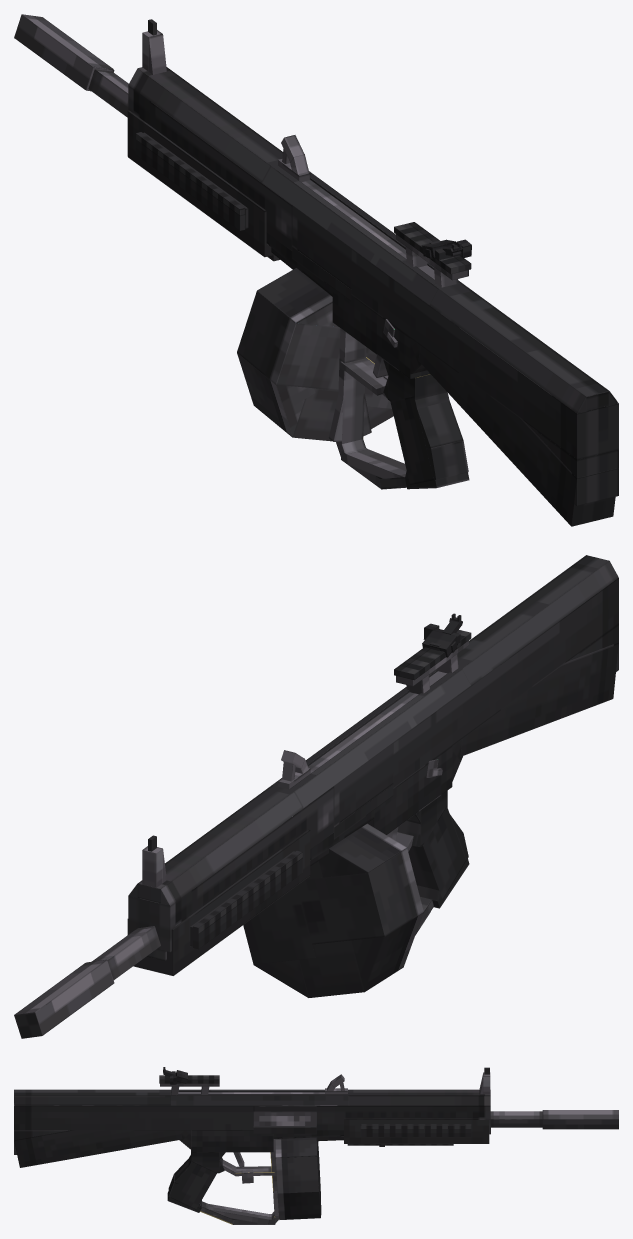
3 renders of one model, top to bottom at view 1: azimuth 30°, elevation 25°; view 2: azimuth 150°, elevation 25°; view 3: azimuth 270°, elevation 25°, orthographic. The views are drawn at different scales.
Parts seen in each view (by area): view 1: gun_52, magazine_9, rails_9, bolt_5, ironsights_12, ironsights_1; view 2: gun_52, magazine_9, rails_9, bolt_5, ironsights_1, ironsights_12; view 3: gun_52, rails_9, magazine_9, action_1, bolt_5, ironsights_1, ironsights_12.
Boxes of the visible parts, x1,y1,x2,y2 form: gun_52: [14, 14, 618, 526]; magazine_9: [237, 268, 393, 441]; rails_9: [127, 104, 290, 261]; bolt_5: [278, 135, 406, 258]; ironsights_12: [142, 19, 166, 74]; ironsights_1: [422, 239, 471, 261]; gun_52: [14, 555, 618, 1038]; magazine_9: [243, 823, 423, 997]; rails_9: [127, 824, 310, 975]; bolt_5: [278, 692, 418, 789]; ironsights_1: [422, 613, 462, 657]; ironsights_12: [142, 835, 166, 887]; gun_52: [14, 1075, 618, 1224]; rails_9: [344, 1118, 489, 1145]; magazine_9: [275, 1137, 321, 1219]; action_1: [253, 1112, 316, 1125]; bolt_5: [208, 1074, 347, 1093]; ironsights_1: [163, 1067, 187, 1084]; ironsights_12: [479, 1067, 490, 1094].
Size of the model in its own units: 0.994 by 1.86 by 6.63.
